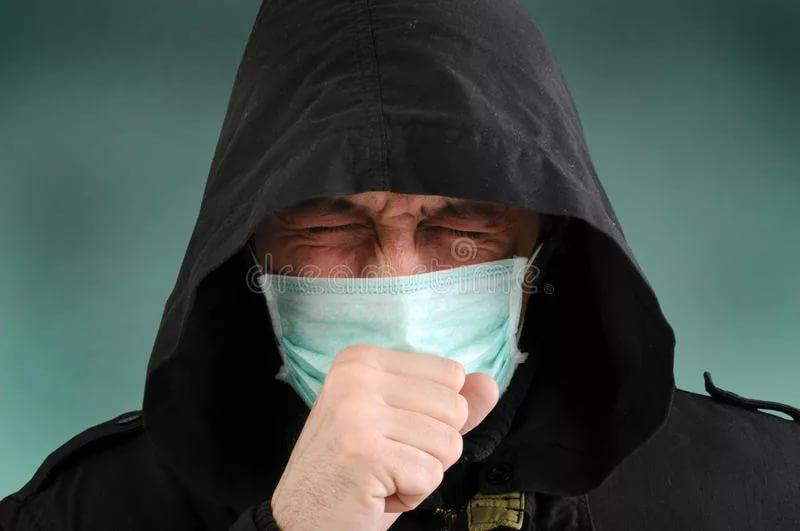mask: (267, 160, 535, 441)
